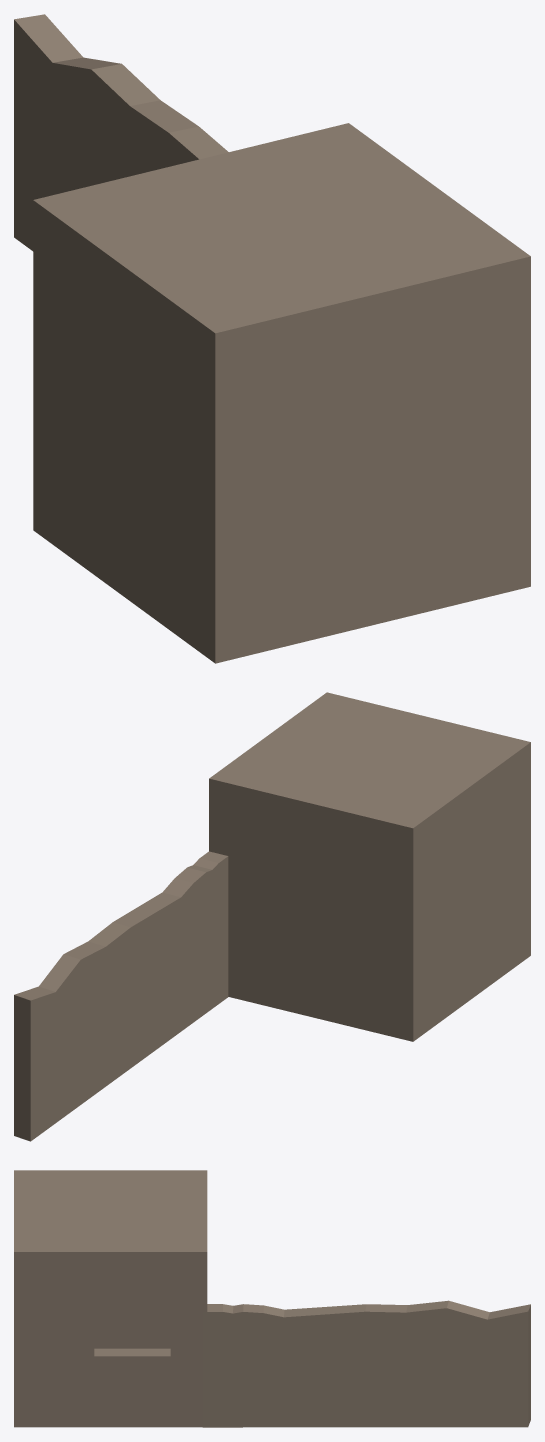
3 views of the same model, one above another, from view 1: azimuth 30°, elevation 25°; view 2: azimuth 150°, elevation 25°; view 3: azimuth 270°, elevation 25° (orthographic). The views are drawn at different scales.
Visible parts, largest first — view 1: Cube.010; view 2: Cube.010; view 3: Cube.010.
Boxes of the visible parts, box(x1,y1,x2,y2) form: Cube.010: box(14, 14, 530, 663); Cube.010: box(14, 692, 530, 1141); Cube.010: box(14, 1170, 530, 1427).
Size of the model in its own units: 0.9949 by 0.9959 by 2.66.
